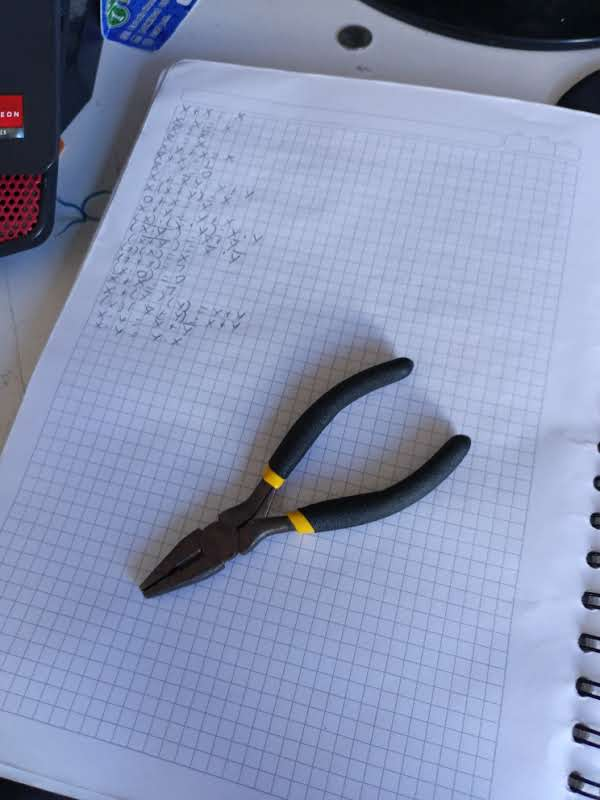Pinzas: (141, 358, 469, 596)
